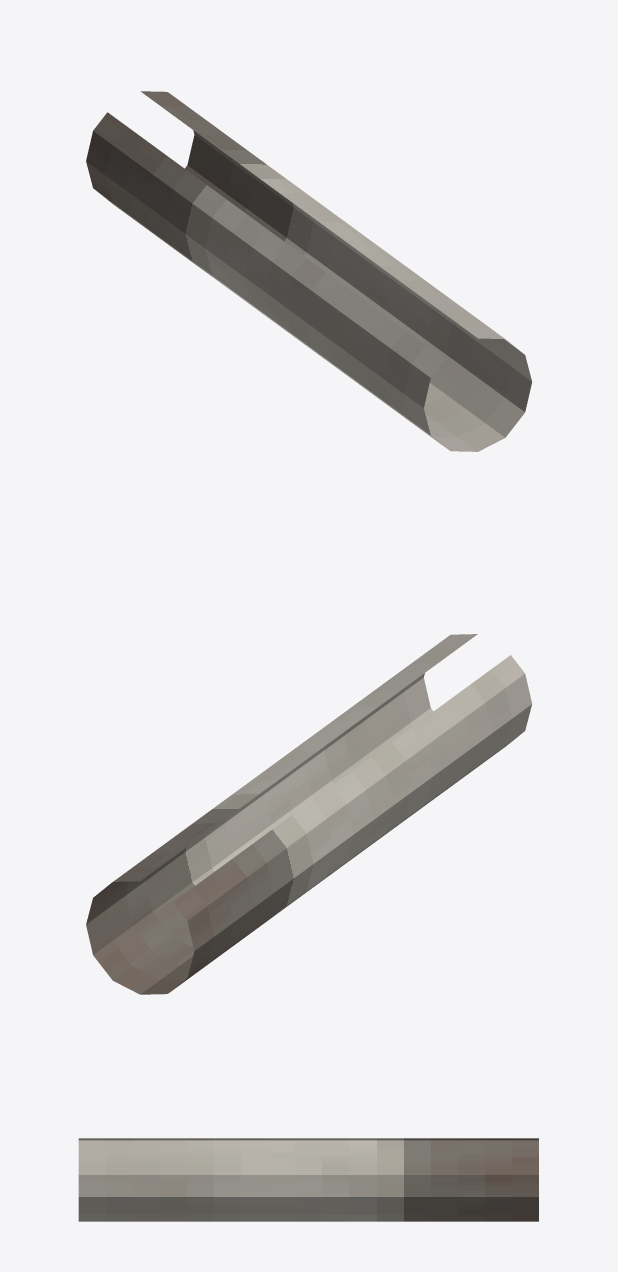
The picture shows the model from 3 angles, top to bottom: view 1: azimuth 30°, elevation 25°; view 2: azimuth 150°, elevation 25°; view 3: azimuth 270°, elevation 25°; orthographic projection. The views are drawn at different scales.
Size of the model in its own units: 0.4874 by 0.4874 by 2.32.
